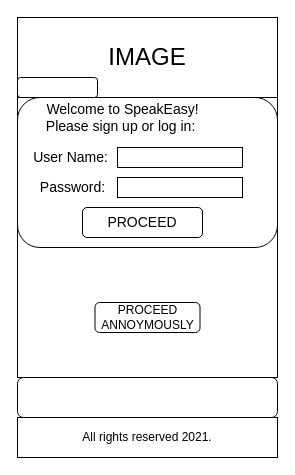
This 295x475 diagram has some shape labels left out. Each missing label, with the centre of its shape:
About us: the point at 147,397
LOGO: the point at 57,87
